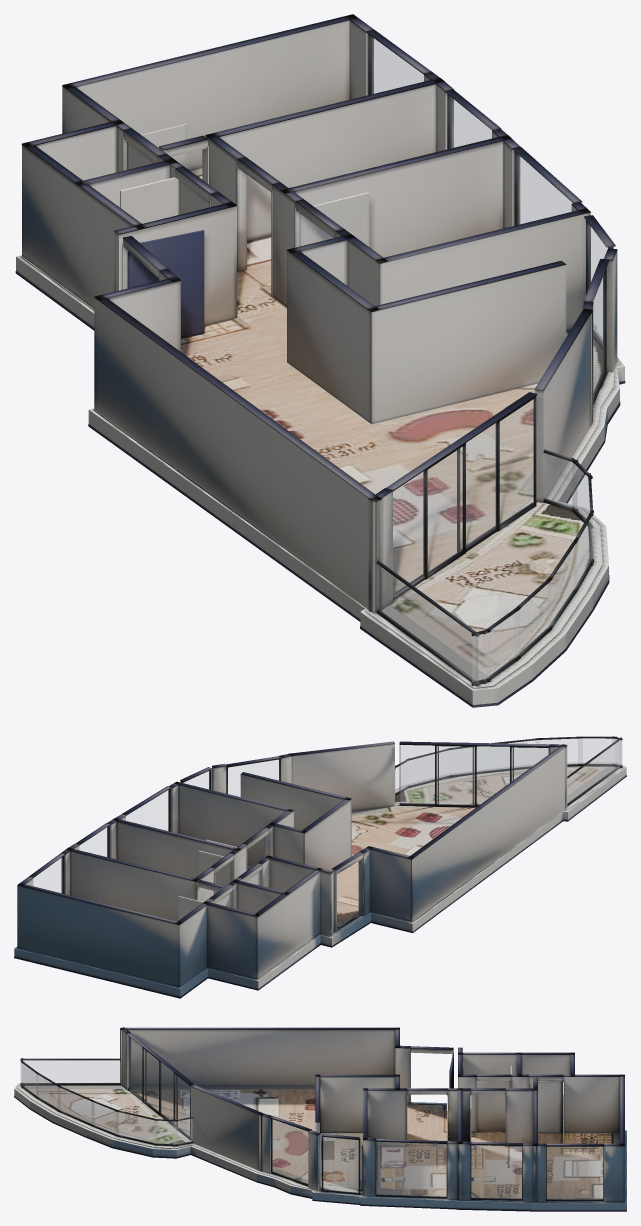
3 views of the same model, one above another, from view 1: azimuth 30°, elevation 25°; view 2: azimuth 150°, elevation 25°; view 3: azimuth 270°, elevation 25° (orthographic). The views are drawn at different scales.
Visible parts, largest first — view 1: plan, glass5_m, railg8_m, glass2_m, glass0_m, railg6_m, railg5_m, railg0_m, railg4_m, glass1_m, glass4_m, glass3_m; view 2: plan, glass5_m, railg8_m, glass2_m, railg4_m, glass4_m, railg2_m, railg6_m, railg3_m, glass0_m, railg5_m, glass1_m; view 3: plan, glass2_m, glass0_m, glass5_m, glass1_m, railg8_m, glass3_m, glass4_m, railg2_m, railg4_m, railg3_m, railg1_m (+3 smaller).
Boxes of the visible parts, x1,y1,x2,y2 form: plan: (15, 14, 625, 707); glass5_m: (393, 399, 533, 595); railg8_m: (378, 565, 478, 682); glass2_m: (517, 154, 572, 224); glass0_m: (371, 36, 423, 93); railg6_m: (484, 610, 519, 679); railg5_m: (515, 581, 550, 657); railg0_m: (544, 453, 576, 508); railg4_m: (548, 543, 576, 628); glass1_m: (450, 97, 491, 148); glass4_m: (593, 274, 604, 396); glass3_m: (589, 225, 607, 343); plan: (14, 736, 626, 998); glass5_m: (400, 745, 548, 805); railg8_m: (567, 740, 620, 803); glass2_m: (126, 790, 168, 830); railg4_m: (488, 740, 539, 770); glass4_m: (228, 760, 279, 796); railg2_m: (409, 751, 447, 785); railg6_m: (578, 738, 616, 763); railg3_m: (450, 747, 483, 774); glass0_m: (33, 857, 62, 892); railg5_m: (536, 738, 582, 764); glass1_m: (79, 827, 107, 856); plan: (14, 1027, 626, 1211); glass2_m: (376, 1142, 446, 1196); glass0_m: (547, 1147, 602, 1199); glass5_m: (129, 1036, 189, 1136); glass1_m: (471, 1145, 521, 1198); railg8_m: (20, 1060, 120, 1082); glass3_m: (323, 1137, 358, 1192); glass4_m: (272, 1119, 307, 1183); railg2_m: (115, 1112, 157, 1143); railg4_m: (58, 1087, 94, 1124); railg3_m: (91, 1102, 118, 1134); railg1_m: (153, 1120, 177, 1144).
Size of the model in its own units: 10.41 by 2.62 by 22.34.
2 materials, 1 textured.
